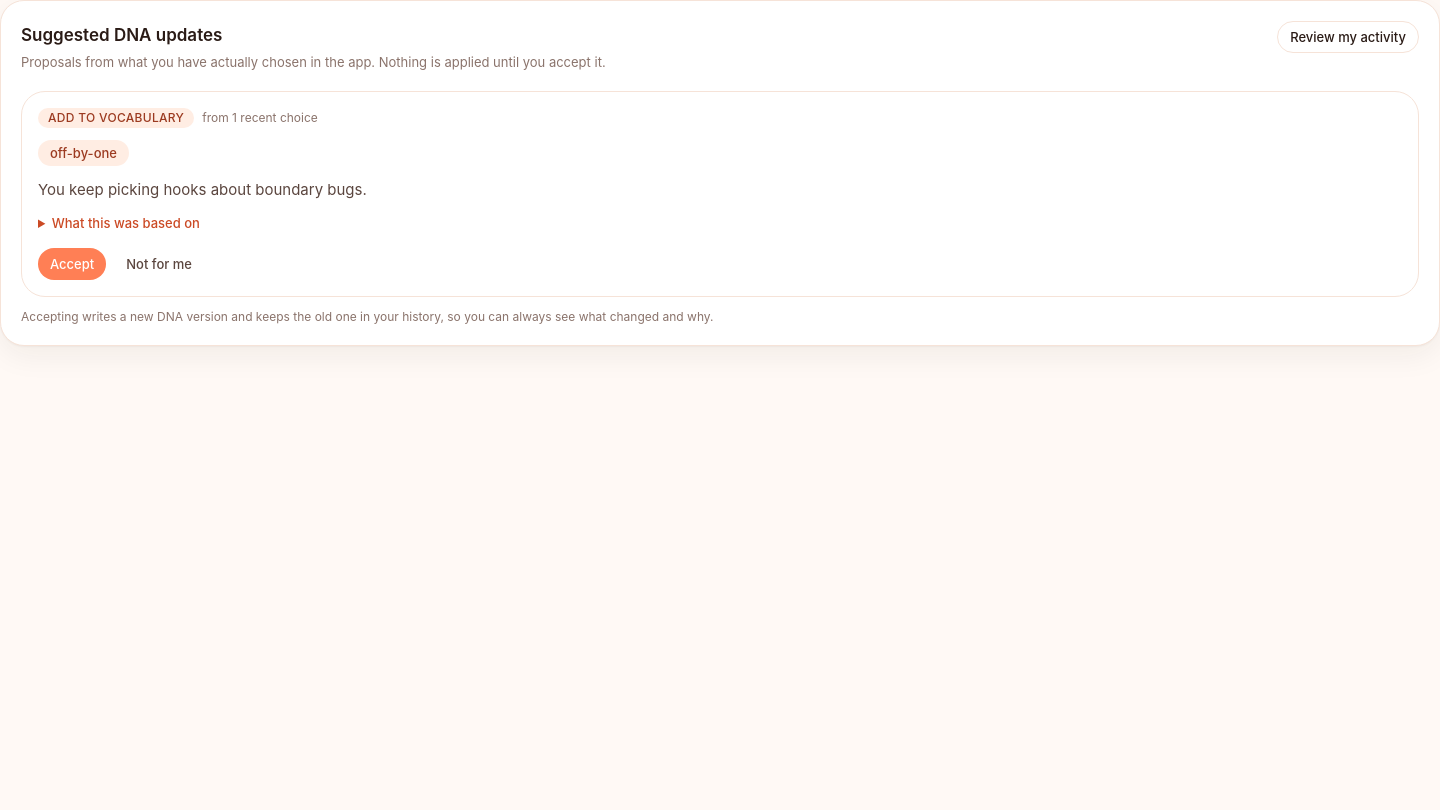
Test case: SuggestedUpdates › accepting posts to the accept endpoint and confirms
Click the button "Accept" at (72, 264), box [38, 248, 106, 280]
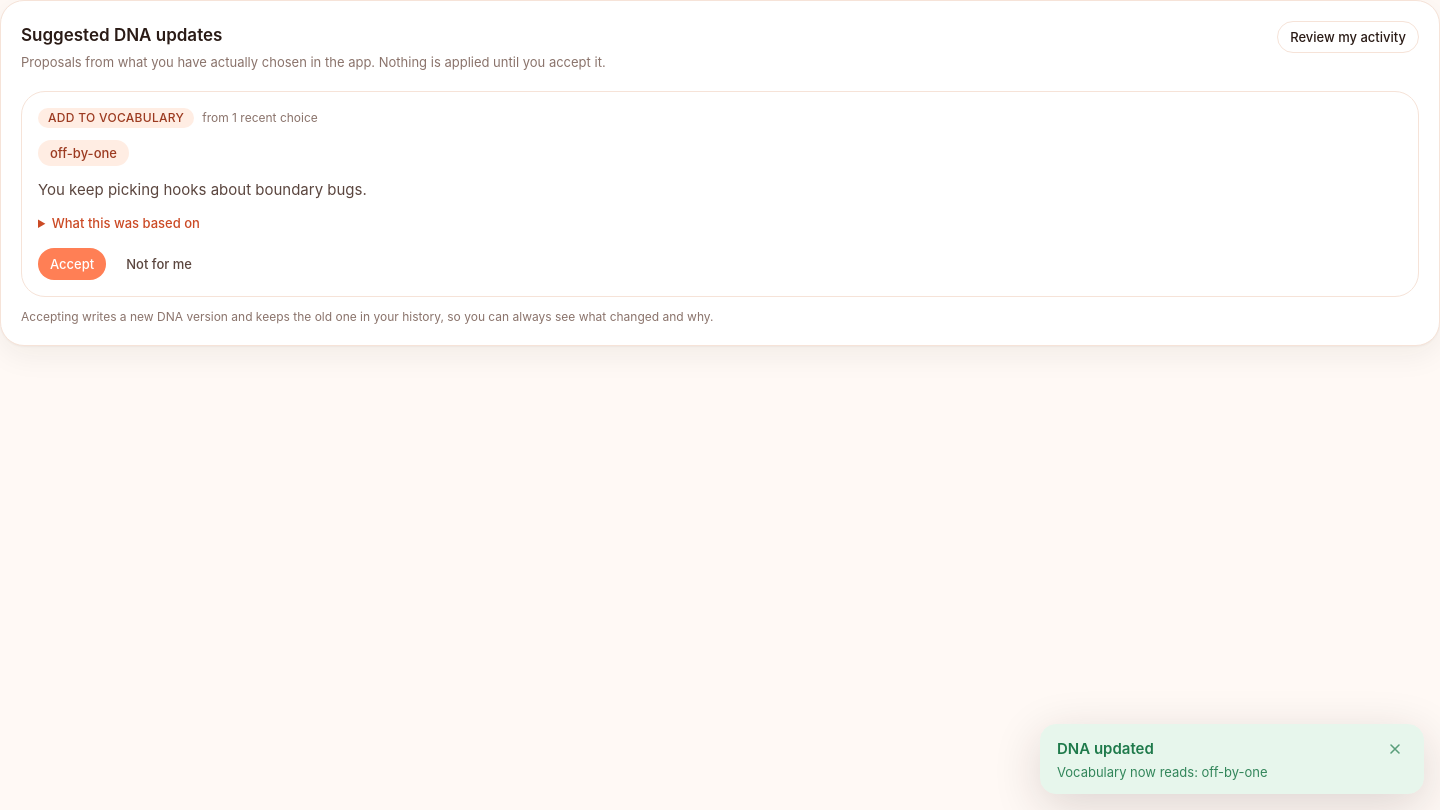
expect the text "DNA updated" is shown: met, box [1057, 739, 1154, 758]
